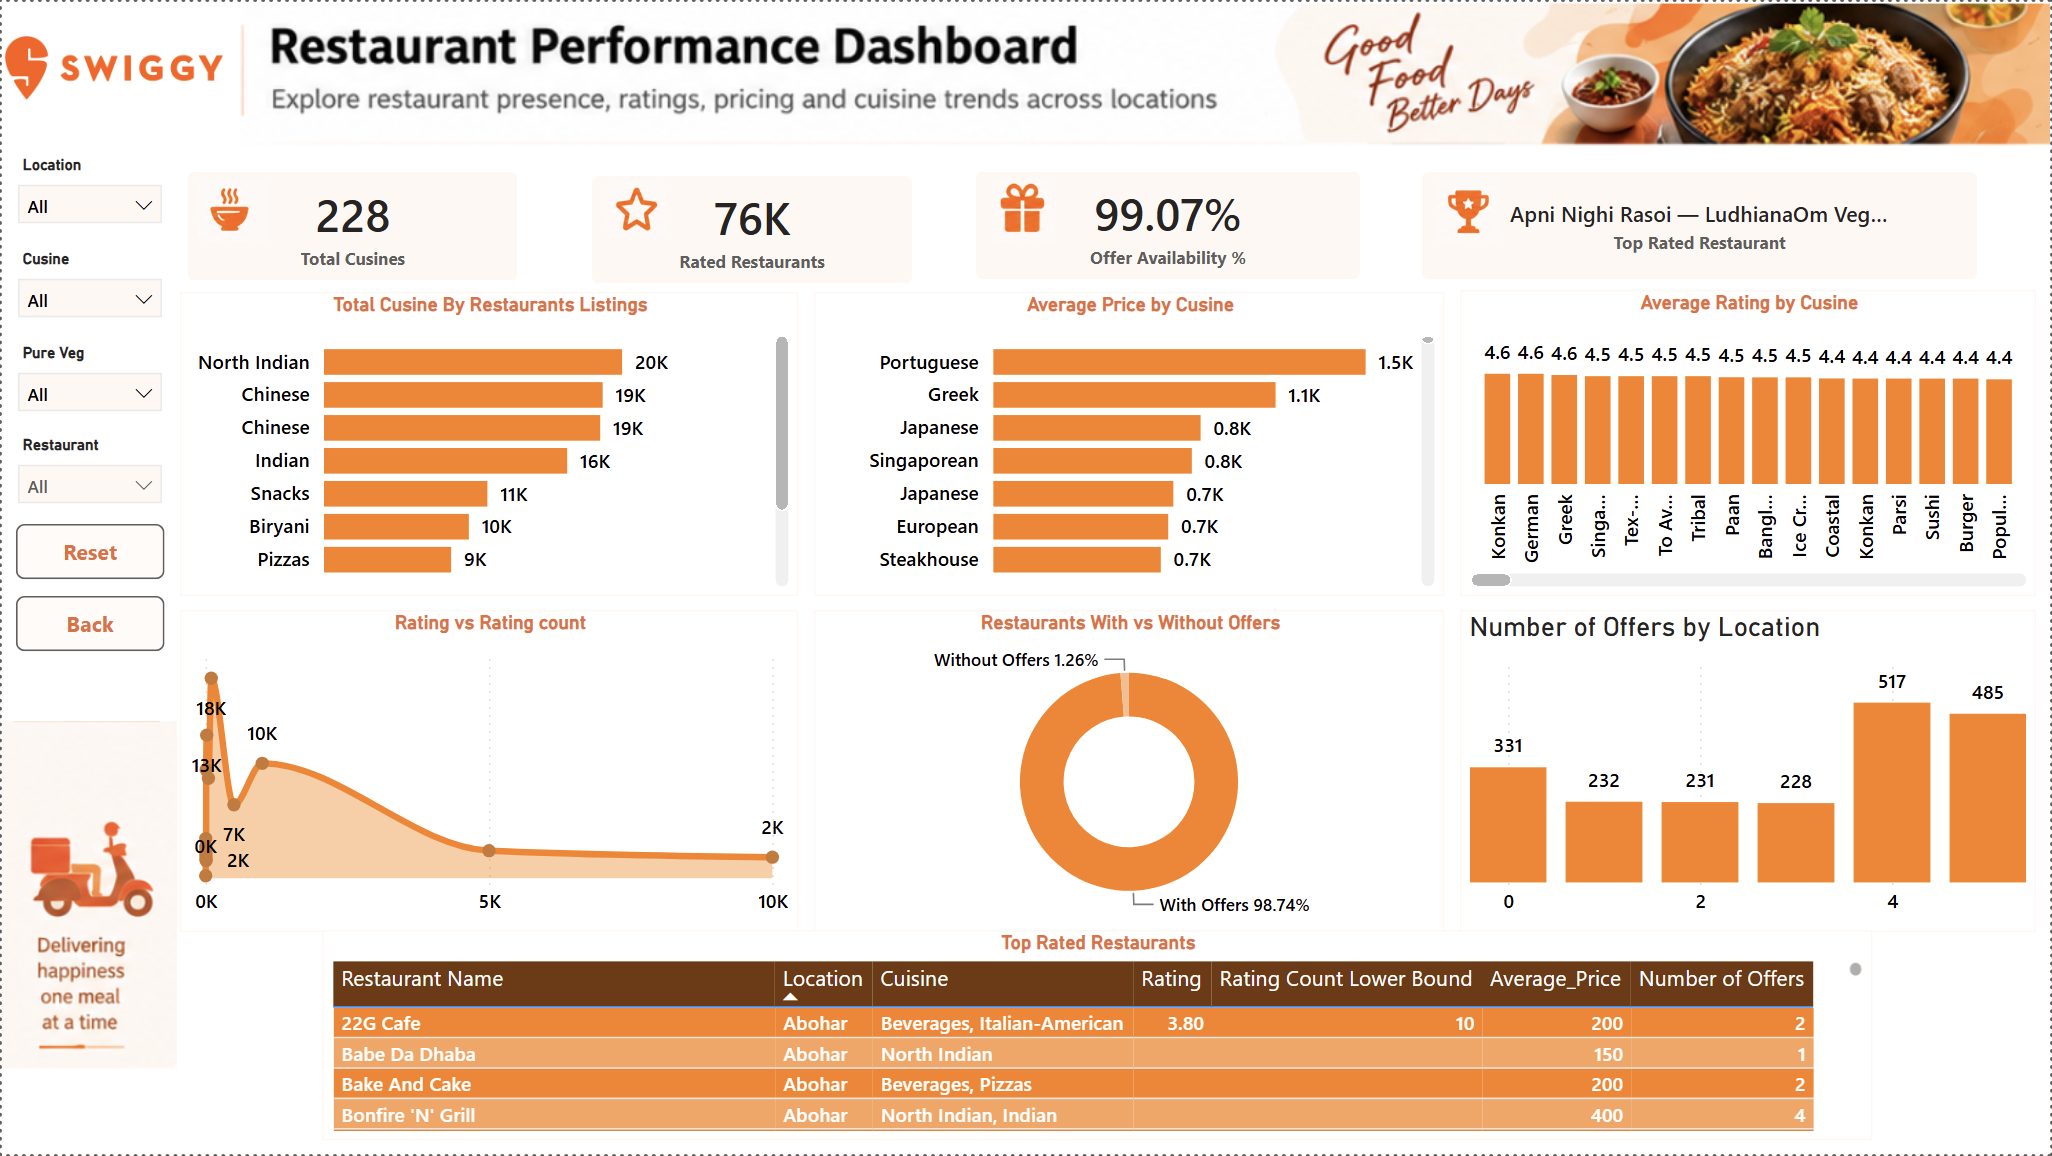

The dashboard page shown, as its layout file describes it:
{"tool":"powerbi","page":{"name":"Cuisine, Ratings & Offers","canvas":[1280,720],"ordinal":1},"visuals":[{"type":"slicer","fields":{"Values":["swiggy_file.Location"]},"box":[0,91.6,110,58.3],"z":0},{"type":"slicer","fields":{"Values":["Swiggy.Cusine_Copy"]},"box":[0,149.9,110,58],"z":1000},{"type":"slicer","fields":{"Values":["Swiggy.Pure Veg"]},"box":[0,208.2,110,58],"z":2000},{"type":"slicer","fields":{"Values":["swiggy_file.Restaurant Name"]},"box":[0,266.5,110,58],"z":3000},{"type":"actionButton","title":"Reset","box":[8.3,325.9,92.8,34.5],"z":4000},{"type":"actionButton","title":"Reset","box":[8.3,371.2,92.8,34.5],"z":5000},{"type":"image","box":[0,0,140,82.5],"z":6000},{"type":"cardVisual","fields":{"Data":["Measures (2).Total Cusines"]},"box":[111.2,101.2,216.2,78.8],"z":7000},{"type":"cardVisual","fields":{"Data":["Measures (2).Rated Restaurants"]},"box":[363.8,103.8,210,77.5],"z":8000},{"type":"cardVisual","fields":{"Data":["Measures (2).Offer Availability %"]},"box":[603.8,101.2,250,77.5],"z":9000},{"type":"cardVisual","fields":{"Data":["Measures (2).Top Rated Restaurant"]},"box":[882.5,101.2,357.5,77.5],"z":10000},{"type":"image","box":[0,437.8,109.4,241.5],"z":19000},{"type":"image","box":[148.8,0,1131.2,91.2],"z":20000},{"type":"image","box":[122.5,110,43.8,40],"z":21000},{"type":"image","box":[377.5,110,37.5,40],"z":22000},{"type":"image","box":[617.5,110,42.5,40],"z":23000},{"type":"image","box":[896.2,110,40,40],"z":24000},{"type":"barChart","title":"Total Cusine By Restaurants Listings","fields":{"Category":["swiggy_file.Cusine_Copy"],"Y":["Measures (2).Total Resturants"]},"box":[111.2,181.2,386.2,190],"z":28001},{"type":"barChart","title":"Average Price by Cusine","fields":{"Category":["swiggy_file.Cusine_Copy"],"Y":["Measures (2).Average Price"]},"box":[507.5,181.2,393.8,190],"z":28002},{"type":"columnChart","title":"Average Rating by Cusine","fields":{"Category":["swiggy_file.Cusine_Copy"],"Y":["Measures (2).Average Rating"]},"box":[911.2,180,360,191.2],"z":28003},{"type":"lineChart","title":"Rating vs Rating count","fields":{"Category":["swiggy_file.Rating Count Lower Bound"],"Y":["Measures (2).Restaurants Listing"]},"box":[111.2,380,386.2,201.2],"z":28004},{"type":"donutChart","title":"Restaurants With vs Without Offers","fields":{"Category":["swiggy_file.Offer Availbility"],"Y":["Measures (2).Total Resturants"]},"box":[507.5,380,393.8,201.2],"z":28005},{"type":"clusteredColumnChart","title":"Number of Offers by Location","fields":{"Category":["swiggy_file.Number of Offers"],"Y":["Measures (2).Total Locatios"]},"box":[911.2,380,360,201.2],"z":28006},{"type":"tableEx","title":"Top Rated Restaurants","fields":{"Values":["swiggy_file.Restaurant Name","swiggy_file.Location","swiggy_file.Cuisine","Sum(swiggy_file.Rating)","Sum(swiggy_file.Rating Count Lower Bound)","Sum(swiggy_file.Average_Price)","Sum(swiggy_file.Number of Offers)"]},"box":[200,580,968.8,131.2],"z":28007}]}

Visuals, with their boxes in screenshot pixels (x1, y1, x2, y2), scaled from the page's 1280x720 canvas onto the 2052x1156 screenshot:
slicer - swiggy_file.Location: bbox=(0, 147, 176, 241)
slicer - Swiggy.Cusine_Copy: bbox=(0, 241, 176, 334)
slicer - Swiggy.Pure Veg: bbox=(0, 334, 176, 427)
slicer - swiggy_file.Restaurant Name: bbox=(0, 428, 176, 521)
"Reset" actionButton: bbox=(13, 523, 162, 579)
"Reset" actionButton: bbox=(13, 596, 162, 651)
image: bbox=(0, 0, 224, 132)
cardVisual - Measures (2).Total Cusines: bbox=(178, 162, 525, 289)
cardVisual - Measures (2).Rated Restaurants: bbox=(583, 167, 920, 291)
cardVisual - Measures (2).Offer Availability %: bbox=(968, 162, 1369, 287)
cardVisual - Measures (2).Top Rated Restaurant: bbox=(1415, 162, 1988, 287)
image: bbox=(0, 703, 175, 1091)
image: bbox=(239, 0, 2051, 146)
image: bbox=(196, 177, 267, 241)
image: bbox=(605, 177, 665, 241)
image: bbox=(990, 177, 1058, 241)
image: bbox=(1437, 177, 1501, 241)
"Total Cusine By Restaurants Listings" barChart: bbox=(178, 291, 797, 596)
"Average Price by Cusine" barChart: bbox=(814, 291, 1445, 596)
"Average Rating by Cusine" columnChart: bbox=(1461, 289, 2038, 596)
"Rating vs Rating count" lineChart: bbox=(178, 610, 797, 933)
"Restaurants With vs Without Offers" donutChart: bbox=(814, 610, 1445, 933)
"Number of Offers by Location" clusteredColumnChart: bbox=(1461, 610, 2038, 933)
"Top Rated Restaurants" tableEx: bbox=(321, 931, 1874, 1142)
